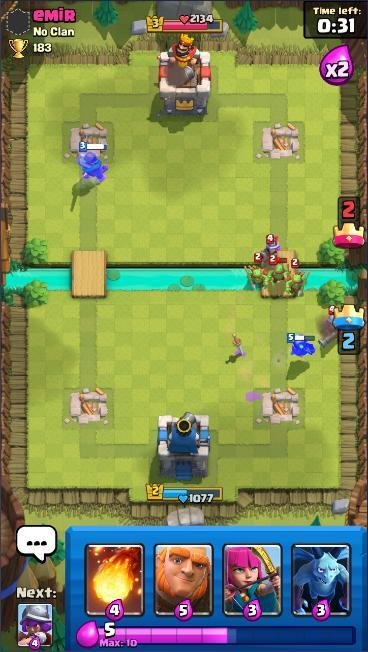EFirespirit: (75, 140, 111, 184)
EGoblinCage: (287, 333, 317, 360)
OBigPekka: (317, 304, 343, 349), (260, 234, 284, 269)
OEVWizard: (246, 252, 271, 289), (285, 258, 307, 300), (265, 255, 292, 286)
